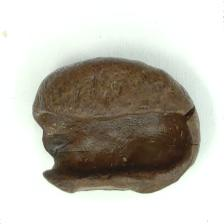NG: (31, 103, 203, 195)
